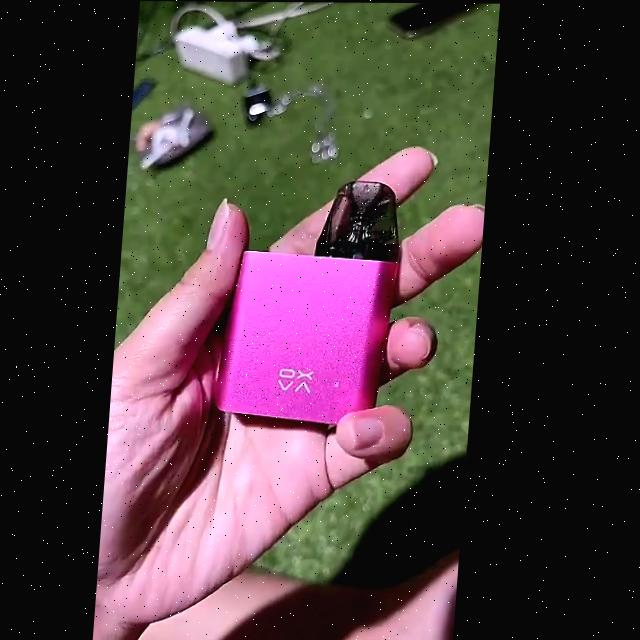vape: (220, 180, 410, 422)
